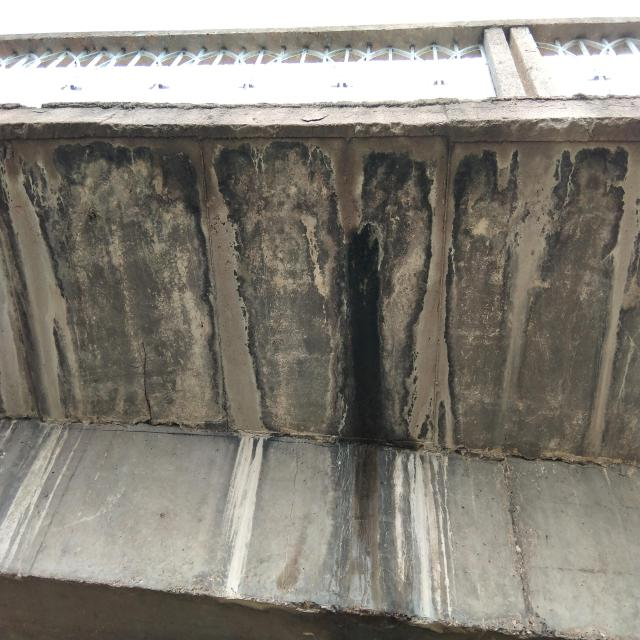concrete spalling: (266, 579, 617, 640)
vertical crack: (134, 332, 164, 424)
